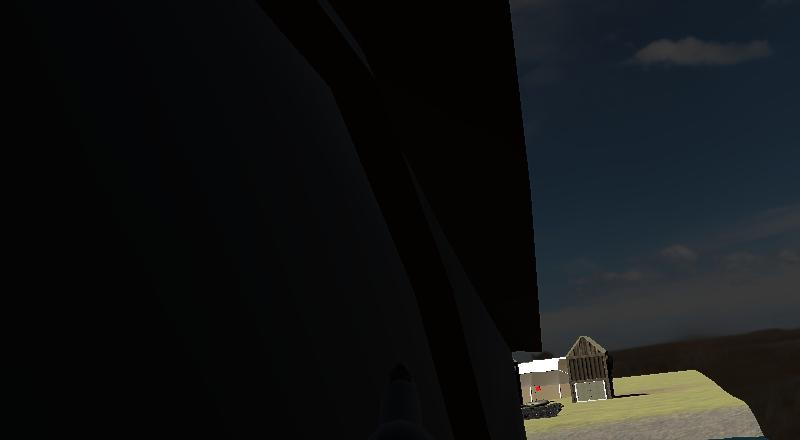Tank: (514, 395, 567, 422)
